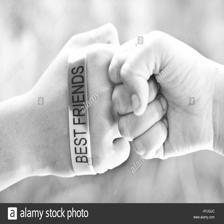Hand: (7, 70, 121, 163), (103, 84, 222, 159)
